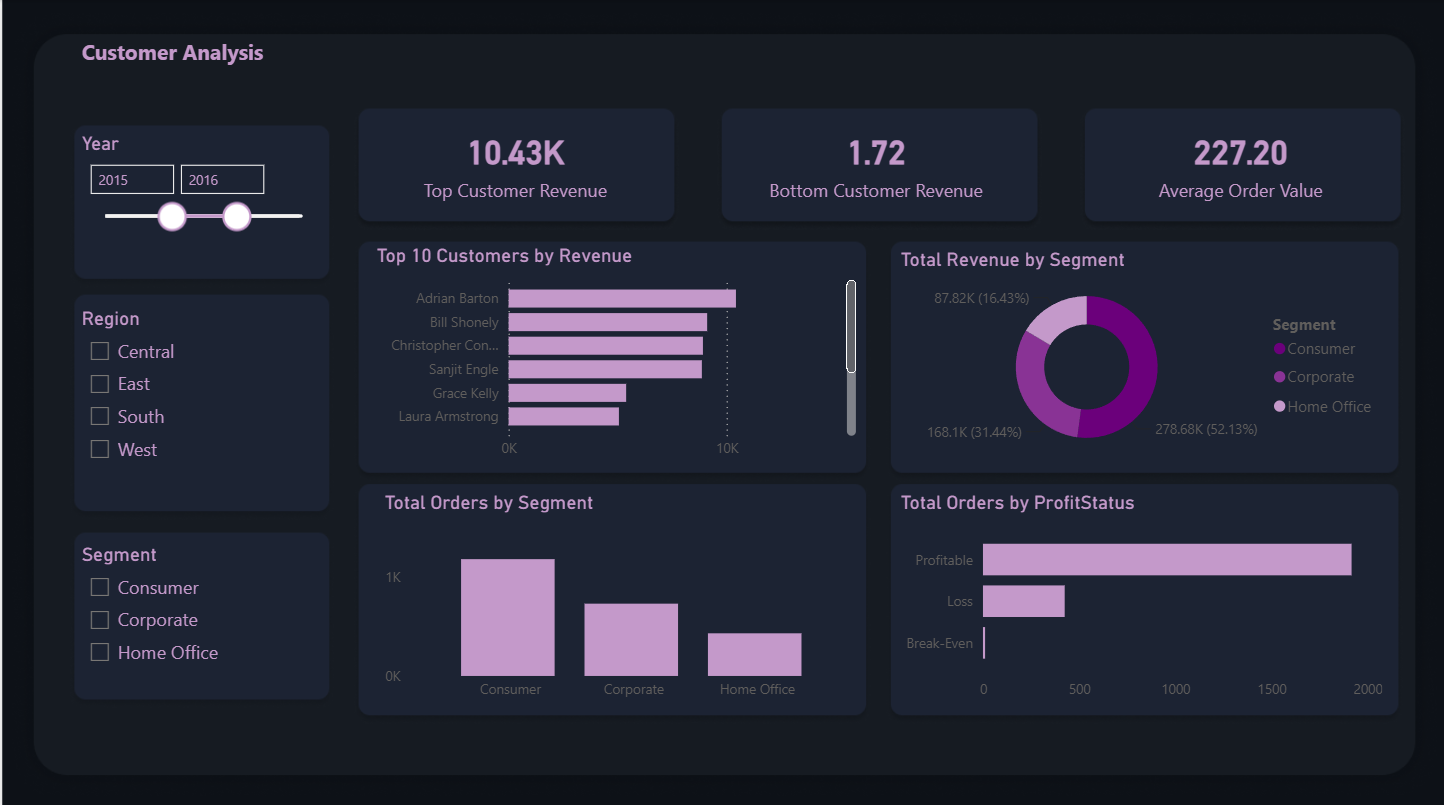

This screenshot's page, from the dashboard's own definition file:
{"tool":"powerbi","page":{"name":"Customer Analysis LM","canvas":[1280,720],"ordinal":2},"visuals":[{"type":"card","fields":{"Values":["DaxMeasures.Top Customer Revenue"]},"box":[332,99,242,90],"z":0},{"type":"slicer","title":"Year","fields":{"Values":["DimDate.Year"]},"box":[66,122,221,123],"z":1000},{"type":"slicer","title":"Region ","fields":{"Values":["DimRegion.Region"]},"box":[65.6,273.1,221.7,178.2],"z":2000},{"type":"slicer","title":"Segment ","fields":{"Values":["DimCustomer.Segment"]},"box":[65.6,483.3,221.7,120.6],"z":3000},{"type":"card","fields":{"Values":["DaxMeasures.Average Order Value"]},"box":[969,104,262,80],"z":4000},{"type":"card","fields":{"Values":["DaxMeasures.Bottom Customer Revenue"]},"box":[660,104,236,80],"z":5000},{"type":"barChart","title":"Top 10 Customers by Revenue","fields":{"Y":["DaxMeasures.Total Revenue"],"Category":["DimCustomer.CustomerName"]},"box":[325,220,435,199],"z":6000},{"type":"donutChart","fields":{"Category":["DimCustomer.Segment"],"Y":["DaxMeasures.Total Revenue"]},"box":[794,220,437,192],"z":7000},{"type":"clusteredColumnChart","fields":{"Category":["DimCustomer.Segment"],"Y":["DaxMeasures.Total Orders"]},"box":[325,435,428,194],"z":8000},{"type":"clusteredBarChart","fields":{"Category":["Fact.ProfitStatus"],"Y":["DaxMeasures.Total Orders"]},"box":[794,435,437,194],"z":9000},{"type":"textbox","box":[65.6,36.4,299.7,44.3],"z":10000}]}

Visuals, with their boxes in screenshot pixels (x1, y1, x2, y2), scaled from the page's 1280x720 canvas onto the 1444x805 screenshot:
card - DaxMeasures.Top Customer Revenue: [x1=375, y1=111, x2=648, y2=211]
"Year" slicer: [x1=74, y1=136, x2=324, y2=274]
"Region " slicer: [x1=74, y1=305, x2=324, y2=505]
"Segment " slicer: [x1=74, y1=540, x2=324, y2=675]
card - DaxMeasures.Average Order Value: [x1=1093, y1=116, x2=1389, y2=206]
card - DaxMeasures.Bottom Customer Revenue: [x1=745, y1=116, x2=1011, y2=206]
"Top 10 Customers by Revenue" barChart: [x1=367, y1=246, x2=857, y2=468]
donutChart - DimCustomer.Segment x DaxMeasures.Total Revenue: [x1=896, y1=246, x2=1389, y2=461]
clusteredColumnChart - DimCustomer.Segment x DaxMeasures.Total Orders: [x1=367, y1=486, x2=849, y2=703]
clusteredBarChart - Fact.ProfitStatus x DaxMeasures.Total Orders: [x1=896, y1=486, x2=1389, y2=703]
textbox: [x1=74, y1=41, x2=412, y2=90]
